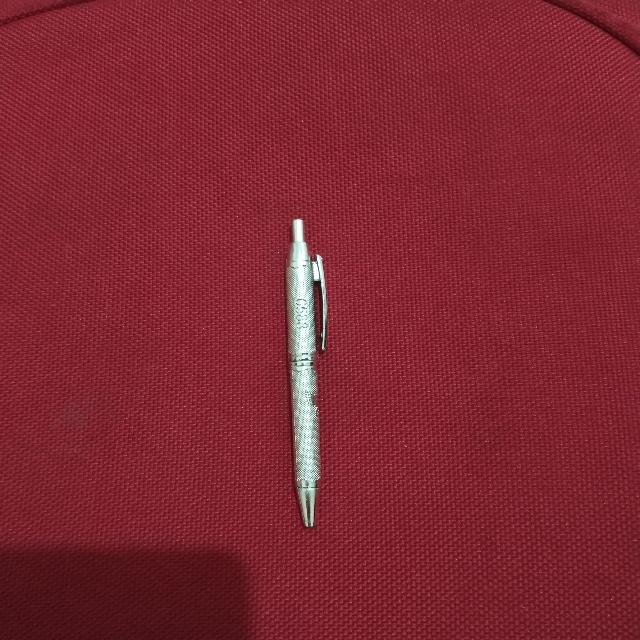signature pen: (286, 219, 326, 526)
